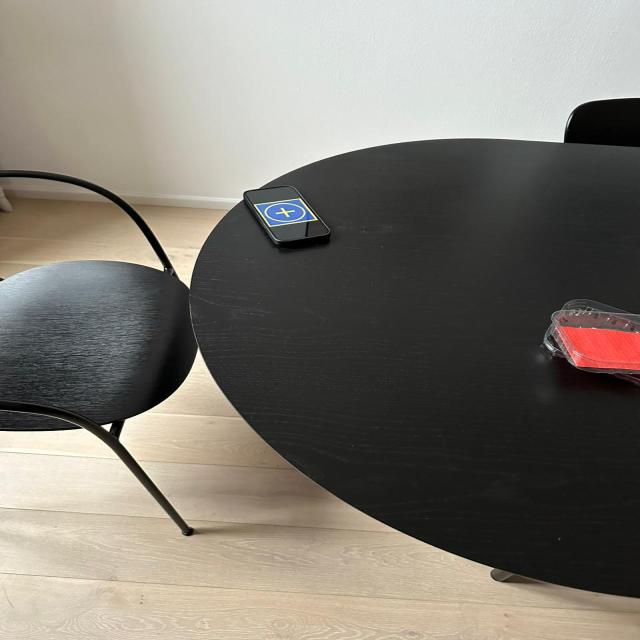Marker: (252, 195, 324, 231)
